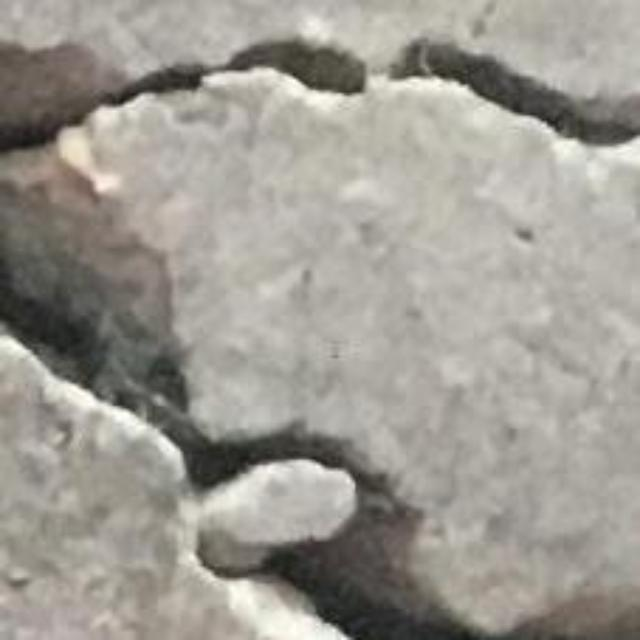crack: (0, 181, 639, 639)
